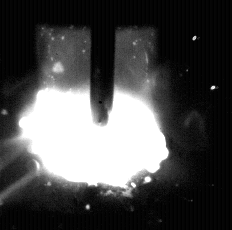arame: (91, 0, 115, 127)
poca: (19, 0, 165, 230)
